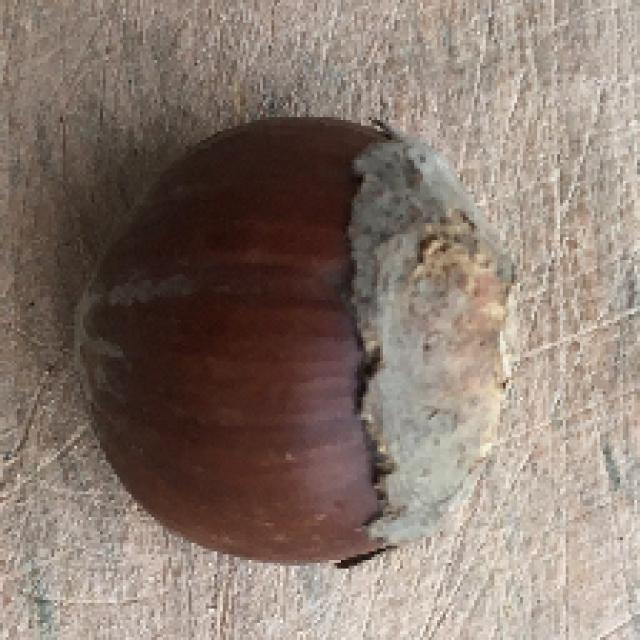damagedHazelnut: (59, 107, 516, 566)
